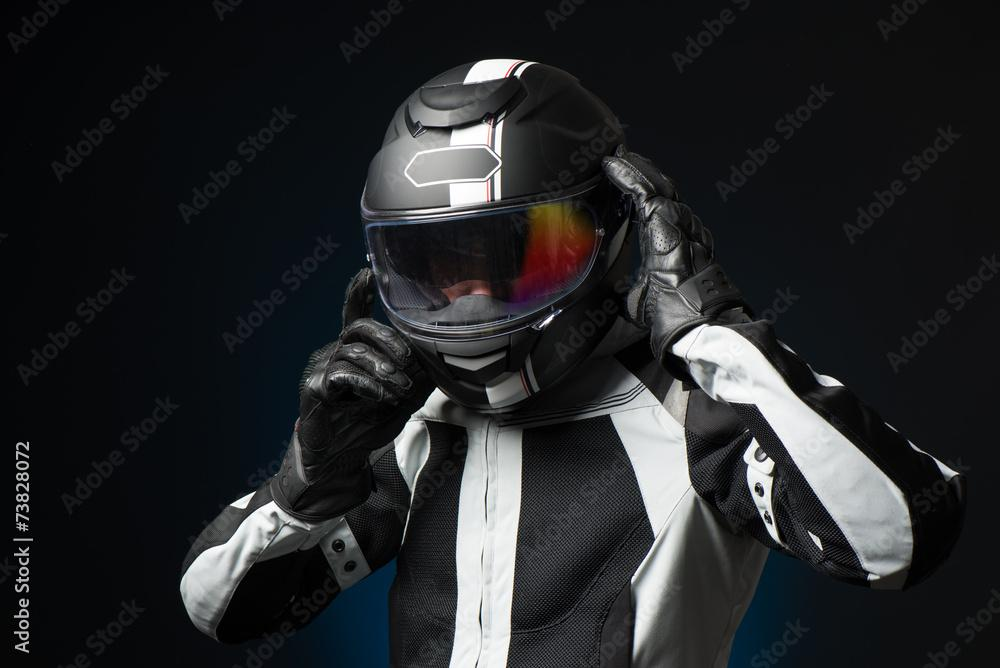helmet: (358, 55, 646, 417)
